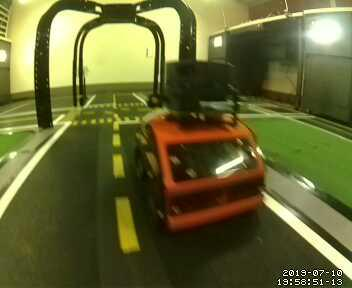pheeno: (134, 59, 273, 234)
